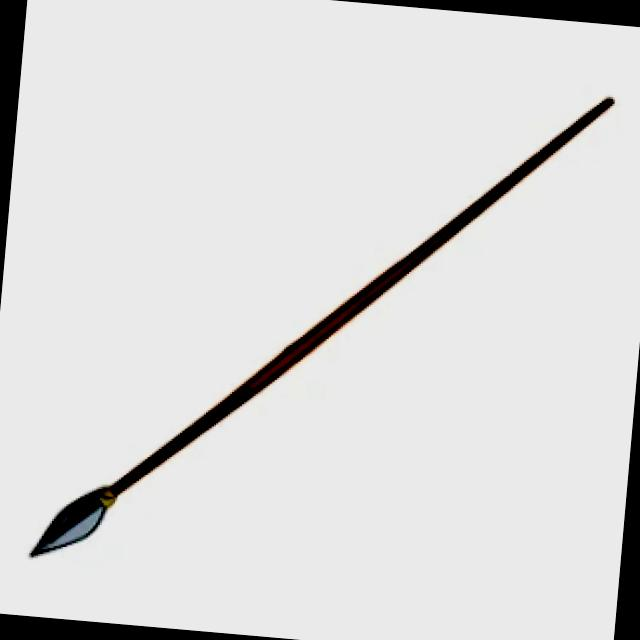spear: (18, 28, 630, 614)
